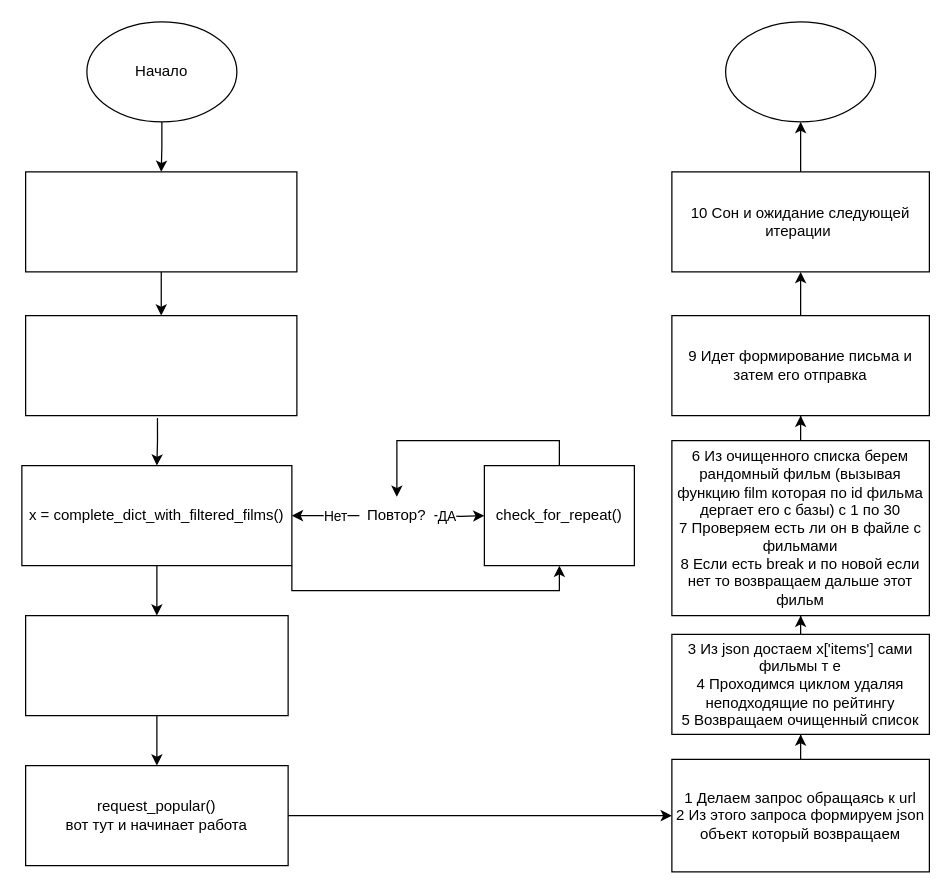
The diagram is 951 pixels wide and 894 high, and some of its shapes have lost their labels. The centre of each missing label's shape, as x and y in pixels:
"filter_by_rating()" goes at [156,665].
"send_email()" goes at [160,365].
"while True:" goes at [160,221].
"Конец" goes at [800,71].
